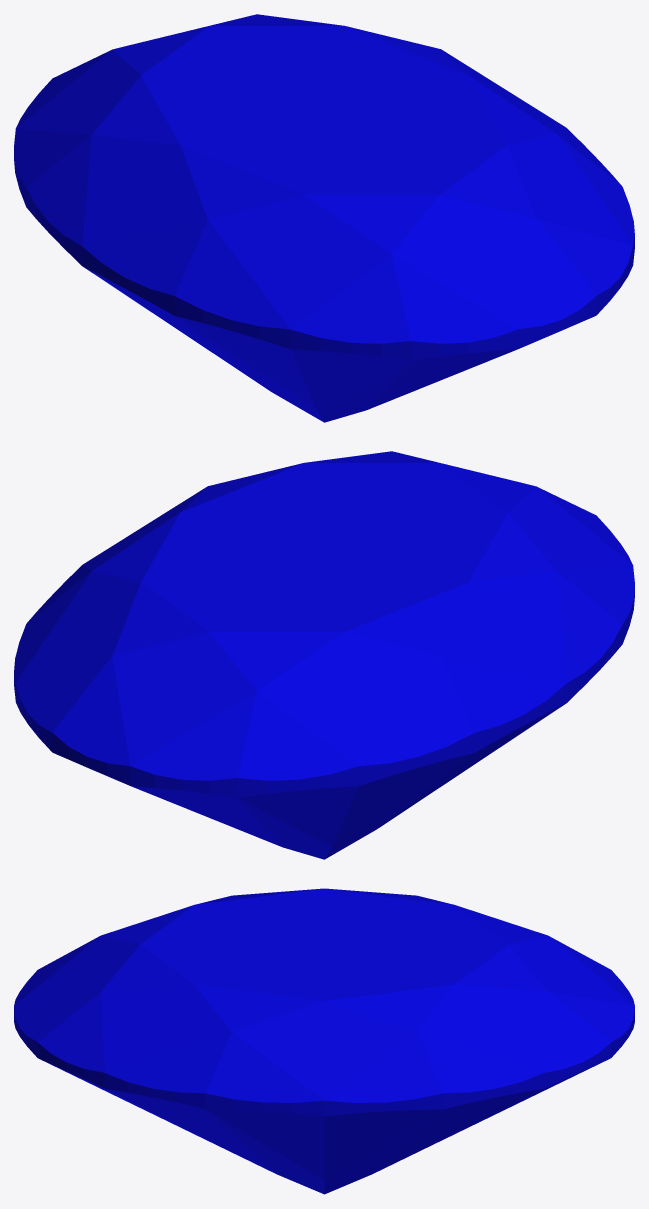
Rendered from Head_No Halo_Oval_1.5ct_Diamond.glb.
3 renders of one model, top to bottom at view 1: azimuth 30°, elevation 25°; view 2: azimuth 150°, elevation 25°; view 3: azimuth 270°, elevation 25°, orthographic. The views are drawn at different scales.
Bounding box in the file's own units: 0.00646 × 0.00398 × 0.00896.
